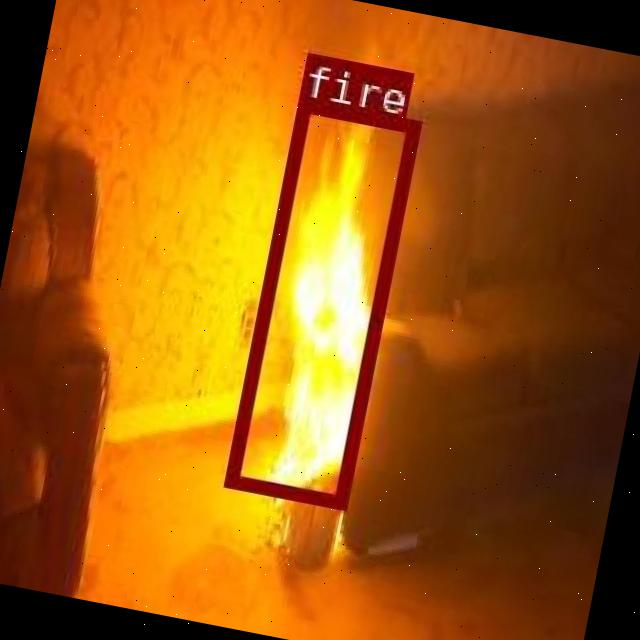fire: (223, 98, 419, 508)
